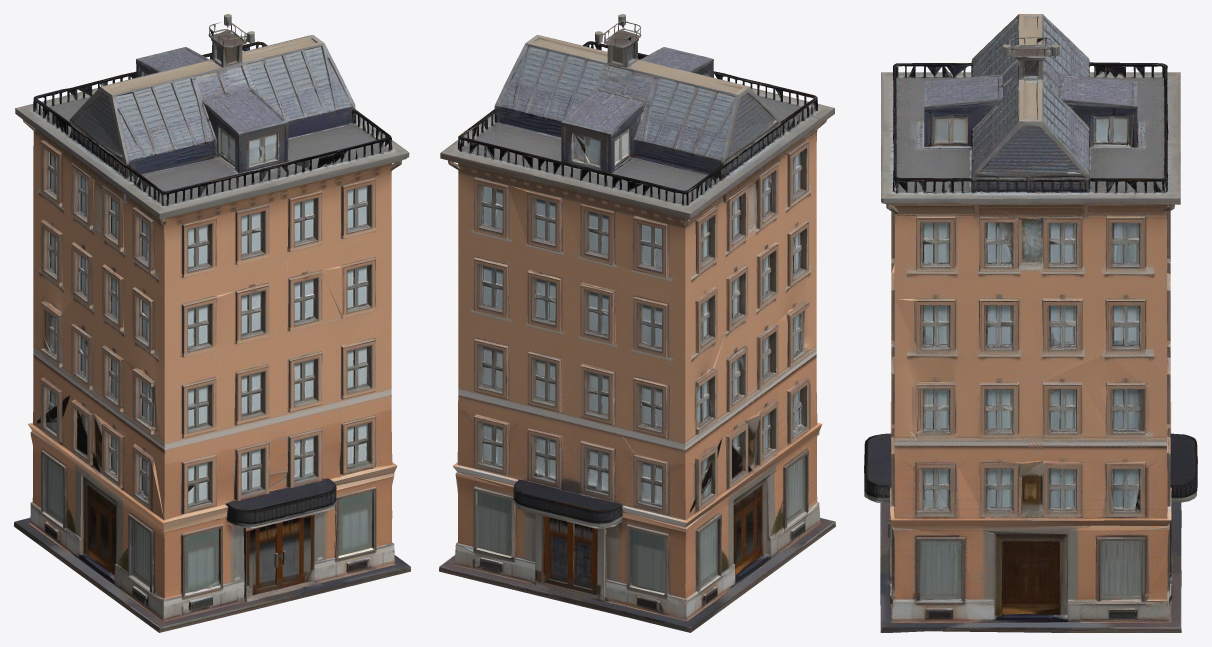
Rendered from arch_hotel_01.glb.
3 views of the same model, side by side, from view 1: azimuth 30°, elevation 25°; view 2: azimuth 150°, elevation 25°; view 3: azimuth 270°, elevation 25° (orthographic). The views are drawn at different scales.
Bounding box in the file's own units: 9.14 × 18 × 10.14.
Materials: 1 (1 with a texture image).
